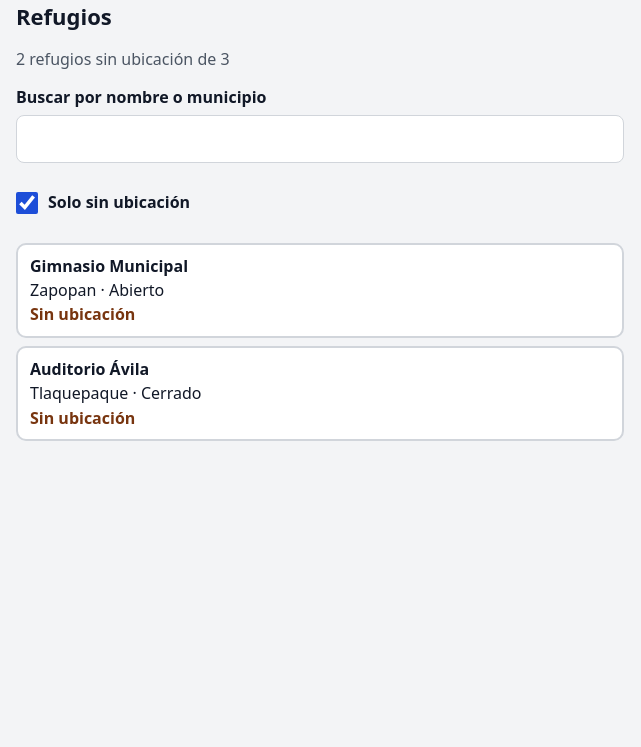
Test: AdministrarRefugios › SIN_PERMISO se muestra en español
Click the button "Gimnasio Municipal Zapopan · Abierto Sin ubicación".
click(109, 266)  # box [16,243,624,338]
(page scrolled)
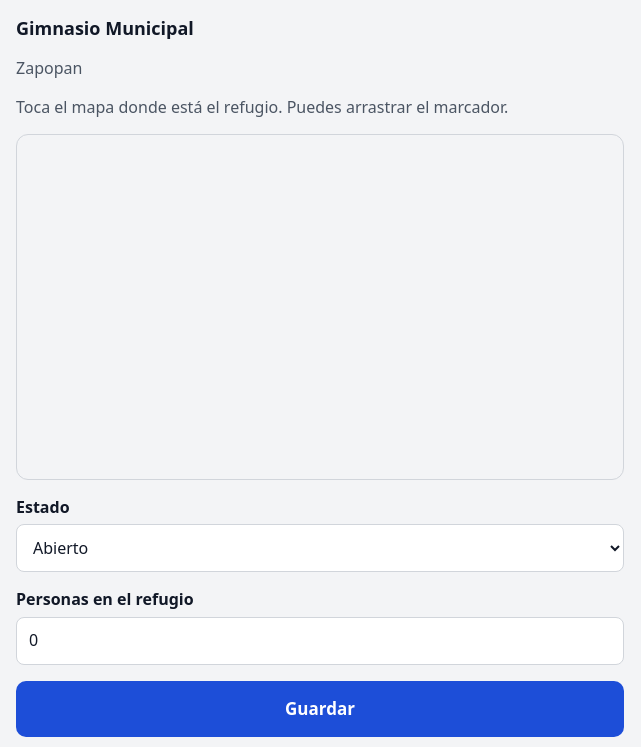
Click the button "Guardar".
click(320, 708)  # box [16,680,624,736]
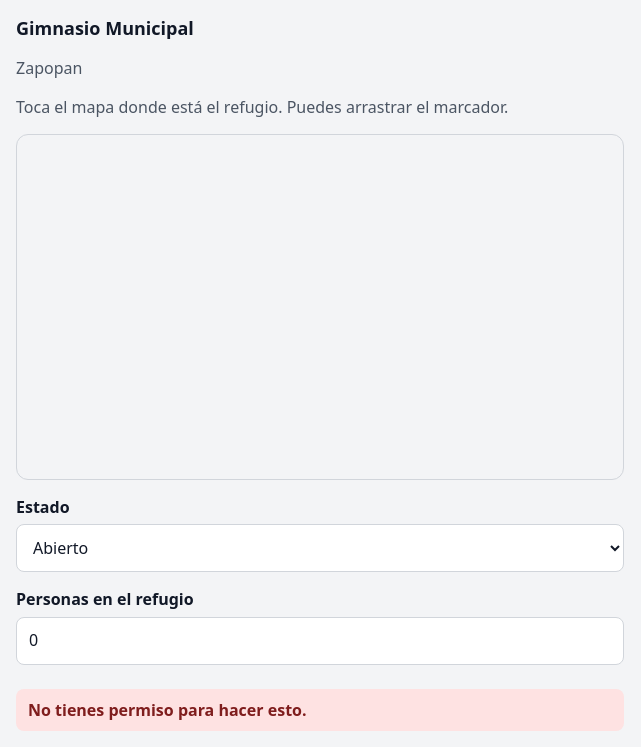
Check: the message reads "No tienes permiso para hacer esto.", box [28,698,306,720]
